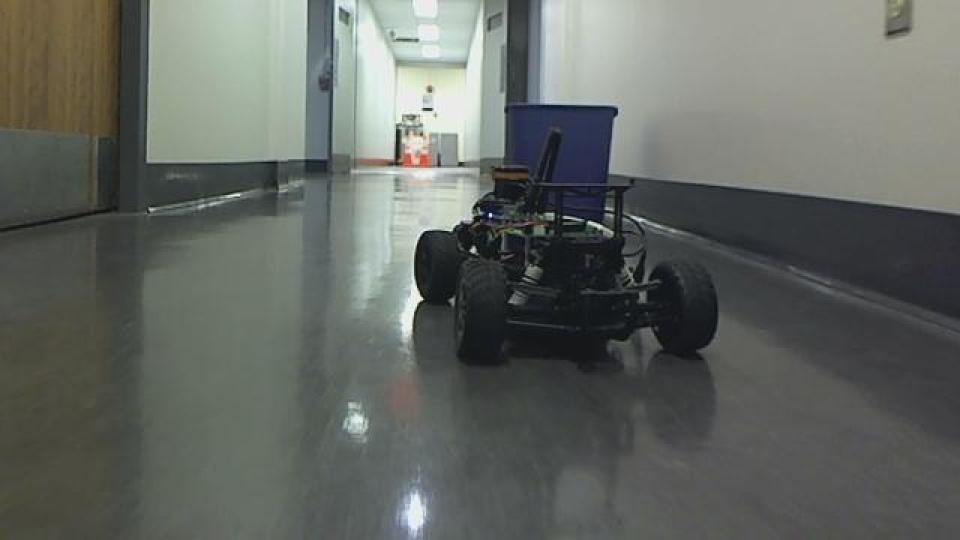car: (410, 107, 722, 369)
